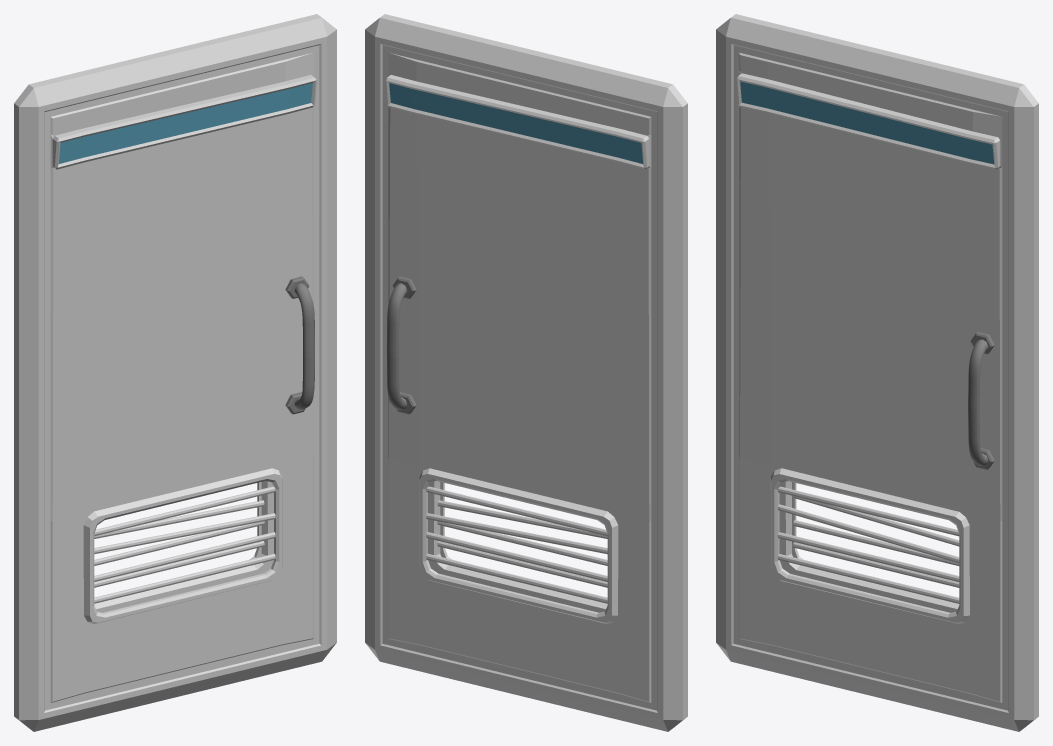
Rendered from PorteCommerces.fbx.
The picture shows the model from 3 angles, left to right: view 1: azimuth 30°, elevation 25°; view 2: azimuth 150°, elevation 25°; view 3: azimuth 330°, elevation 25°; orthographic projection.
Parts seen in each view (by area): view 1: polySurface521; view 2: polySurface521; view 3: polySurface521.
Boxes of the visible parts, box(x1,y1,x2,y2) form: polySurface521: box(14, 14, 336, 731); polySurface521: box(365, 14, 687, 731); polySurface521: box(716, 14, 1038, 731).
Size of the model in its own units: 104 by 202 by 23.49.
